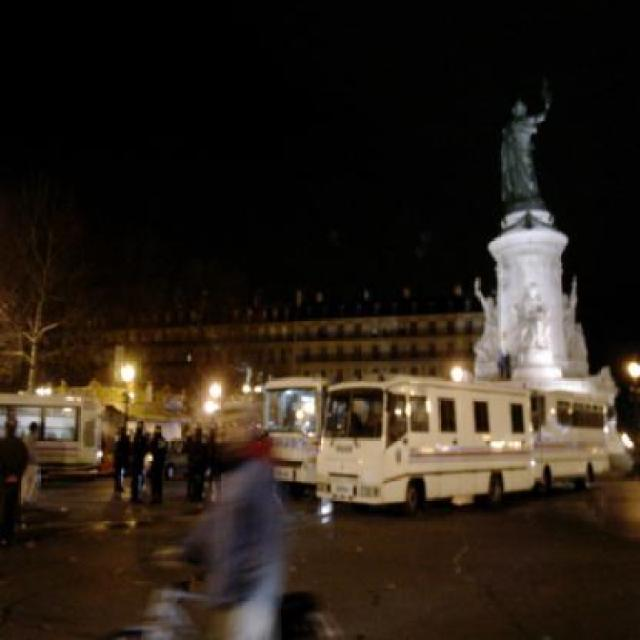Person: (0, 416, 25, 536), (20, 414, 38, 512), (125, 424, 147, 504), (150, 424, 167, 510), (186, 426, 205, 502), (114, 427, 135, 495), (205, 428, 226, 492)
